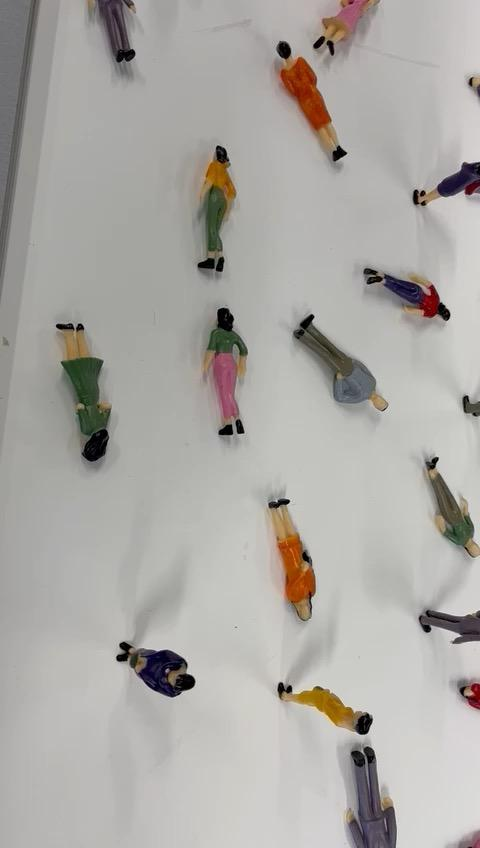human: (269, 34, 350, 164), (292, 310, 393, 414), (51, 317, 115, 464), (418, 450, 480, 567), (189, 140, 243, 274), (199, 303, 250, 439), (266, 496, 319, 624), (358, 260, 459, 327), (273, 677, 376, 739), (343, 744, 402, 848), (113, 636, 200, 699), (408, 153, 480, 209), (415, 601, 480, 650)
